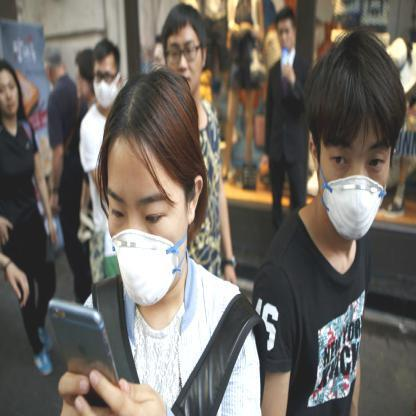with_mask: (98, 76, 205, 314), (305, 34, 403, 250), (91, 38, 123, 106)
without_mask: (161, 3, 207, 95), (73, 50, 97, 104), (1, 64, 21, 124), (275, 8, 298, 56)
